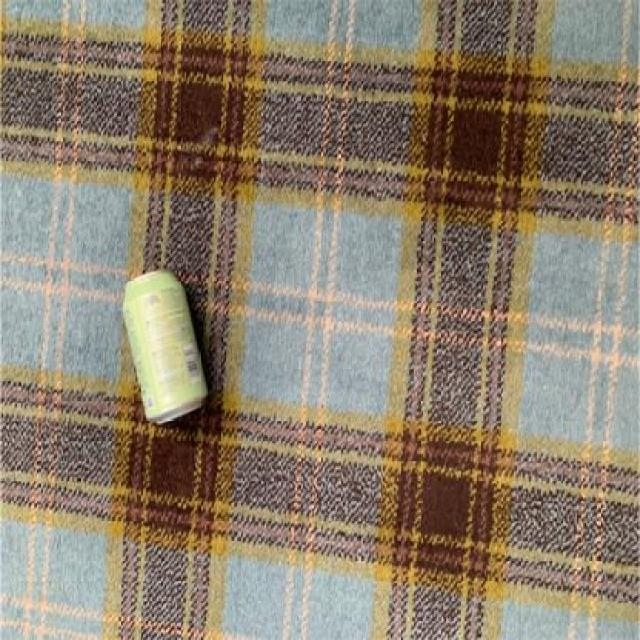Metal: (120, 268, 208, 428)
